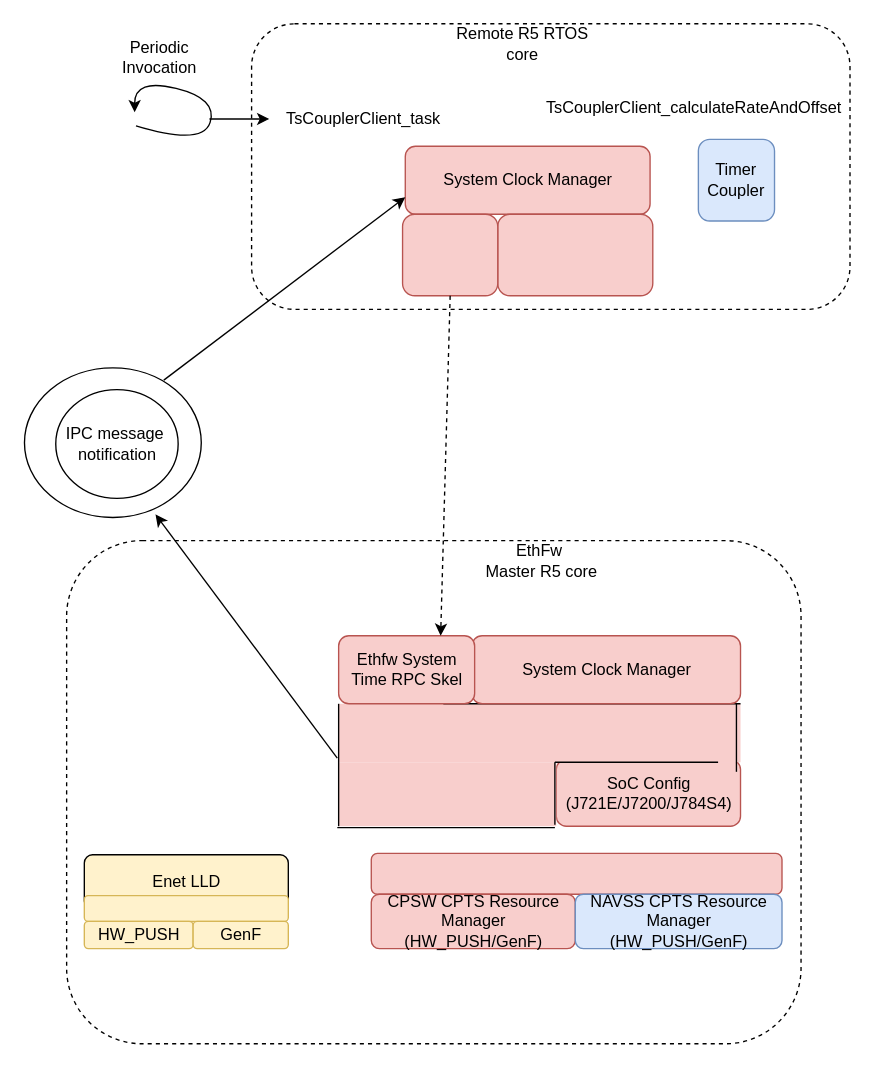
The diagram is 873 pixels wide and 1068 high, and some of its shapes have lost their labels. The centre of each missing label's shape, as x and y in pixels:
"CPTS" belongs at point 185,907.
"Ethfw System Time RPC Stub" belongs at point 449,254.
"System Clock Manager Server" belongs at point 539,732.
"Timer Config (Timer Interrupt, freq, mux setup)" belongs at point 574,254.
"Timer Sync Resource Manager" belongs at point 576,873.
